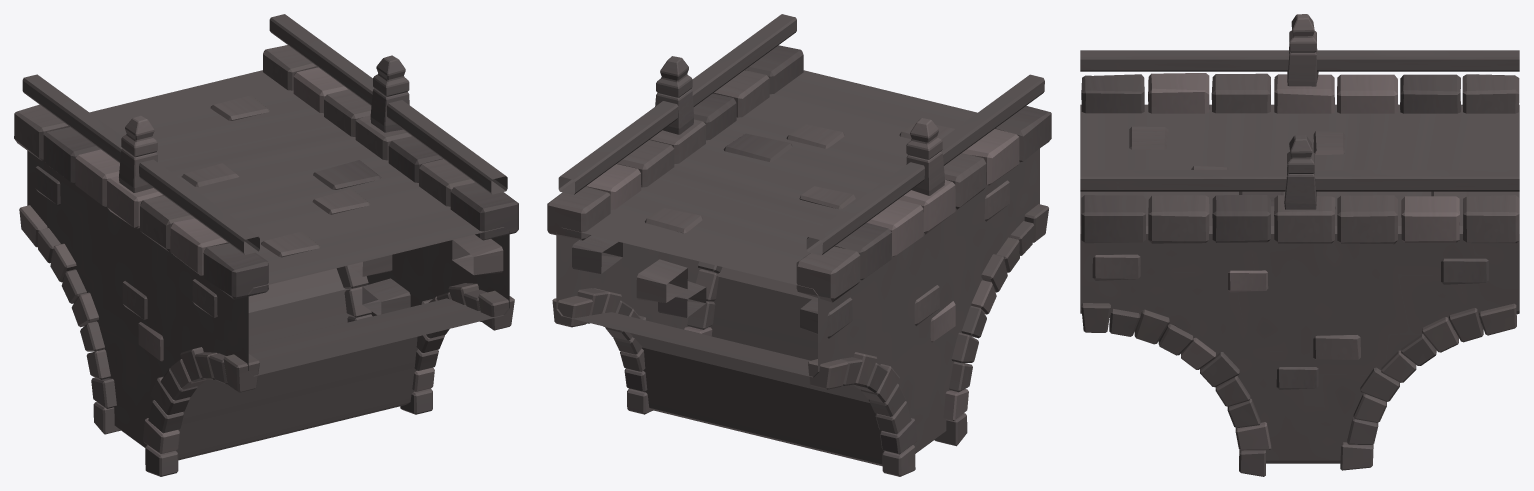
Rendered from Jembatan.fbx.
3 views of the same model, side by side, from view 1: azimuth 30°, elevation 25°; view 2: azimuth 150°, elevation 25°; view 3: azimuth 270°, elevation 25° (orthographic).
Visible parts, largest first — view 1: Bridge.043; view 2: Bridge.043; view 3: Bridge.043.
Part boxes in pixels (left/top/right/bottom): Bridge.043: left=14, top=14, right=518, bottom=476; Bridge.043: left=547, top=14, right=1051, bottom=476; Bridge.043: left=1080, top=14, right=1519, bottom=476.
Size of the model in its own units: 395 by 441 by 527.
Materials: 1 (1 with a texture image).
